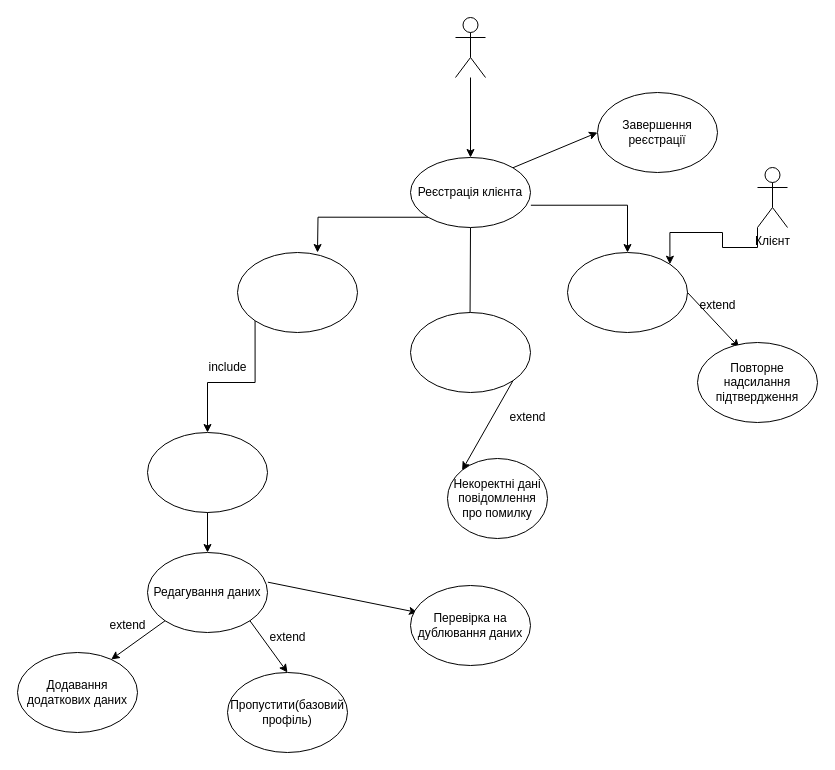
Some shapes in this 835 by 770 pixel diagram are drawn without their labels. The shapes that lost their labels are listed below. From the top down, each one's centre as x and y in pixels, then its label:
point (470, 47): Фармацевт
point (297, 292): Введення даних
point (627, 292): Підтвердження профілю
point (470, 352): Валідація даних
point (207, 472): Створення профілю
